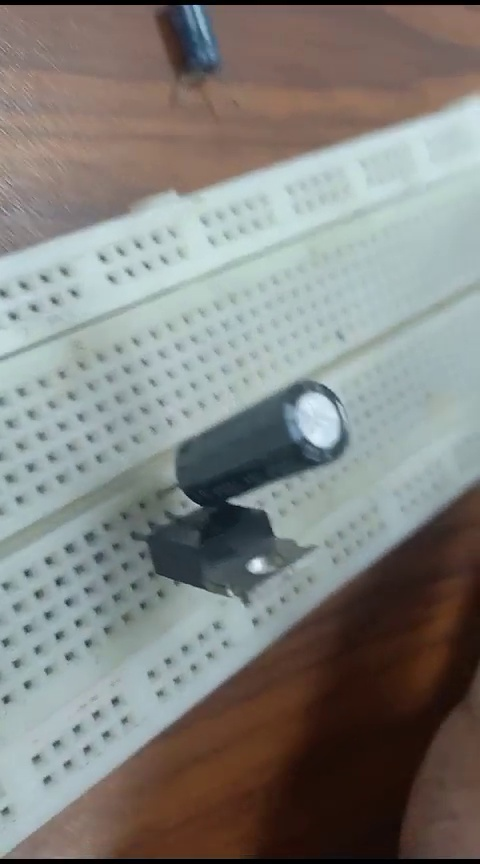capacitor: (168, 381, 355, 493)
voltage regulator: (131, 499, 312, 603)
